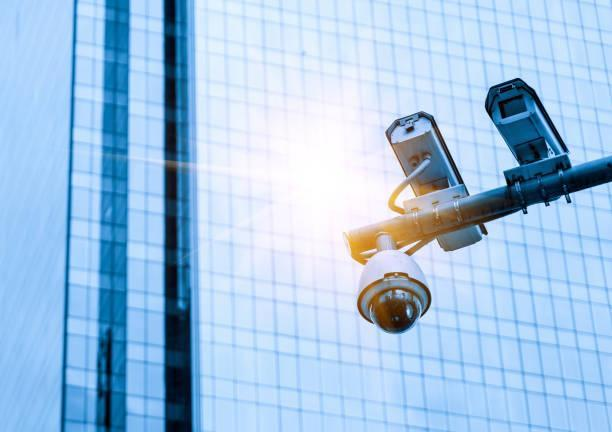camera: (381, 93, 491, 280), (463, 46, 592, 201), (330, 214, 440, 370)
